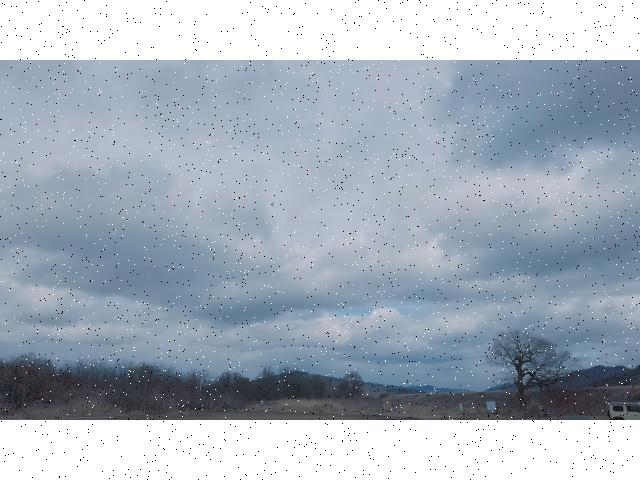Anti-Drone: (266, 198, 276, 210)
